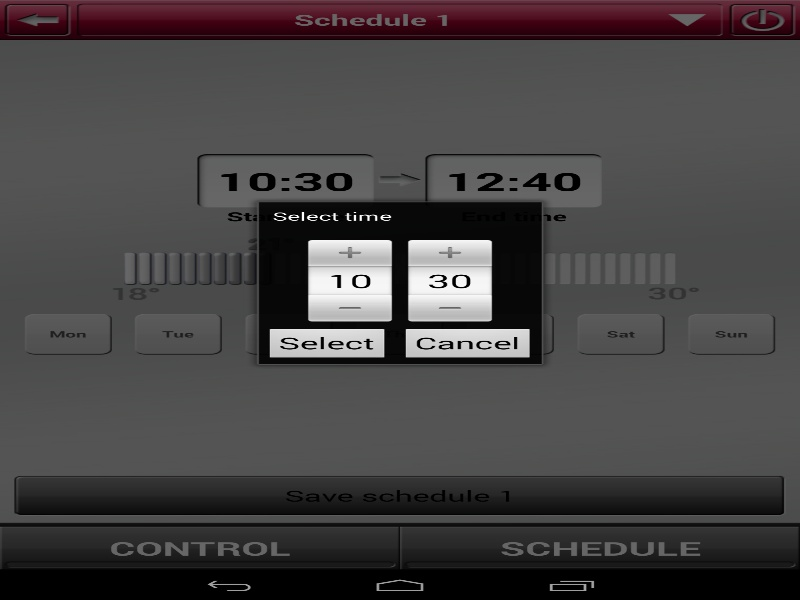Button: (400, 328, 535, 361), (264, 328, 390, 361), (303, 295, 396, 323), (403, 295, 496, 323), (303, 238, 396, 265), (403, 238, 496, 265)
Input: (303, 265, 396, 295), (403, 265, 496, 295)
